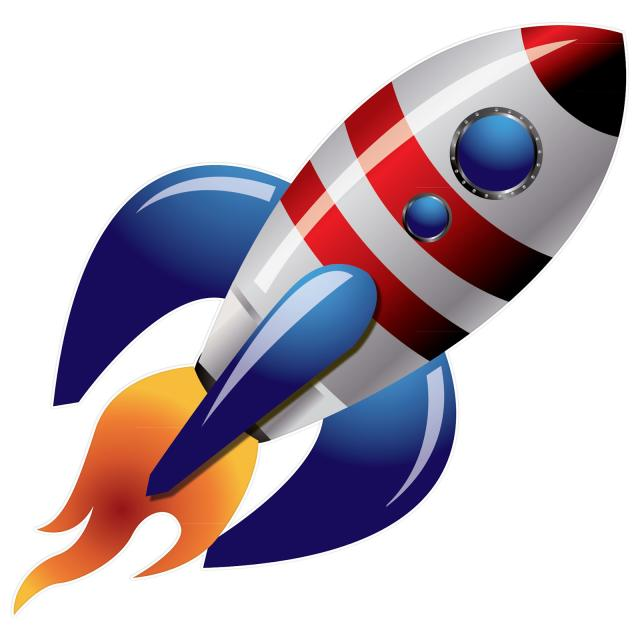rocket: (41, 12, 627, 574)
